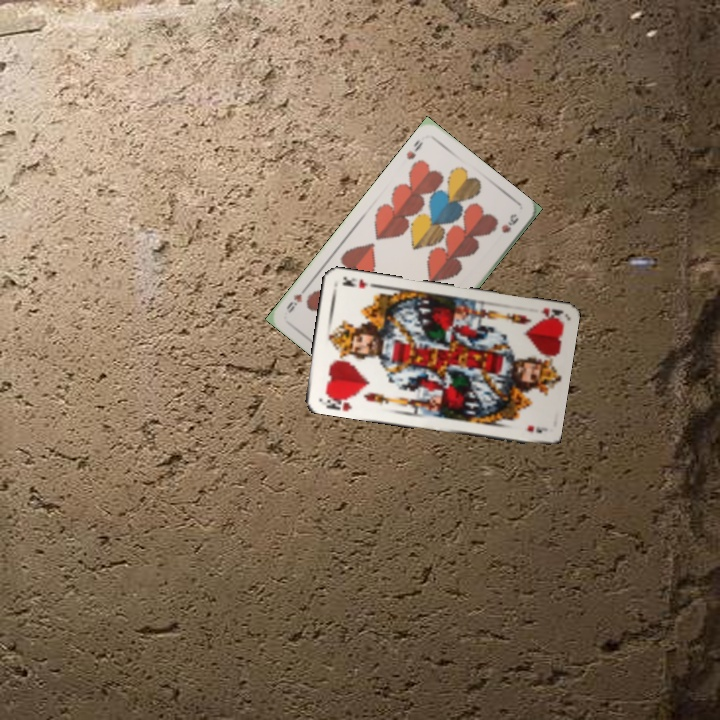H9: (402, 136, 426, 162)
HK: (321, 390, 356, 413), (538, 304, 564, 324)
